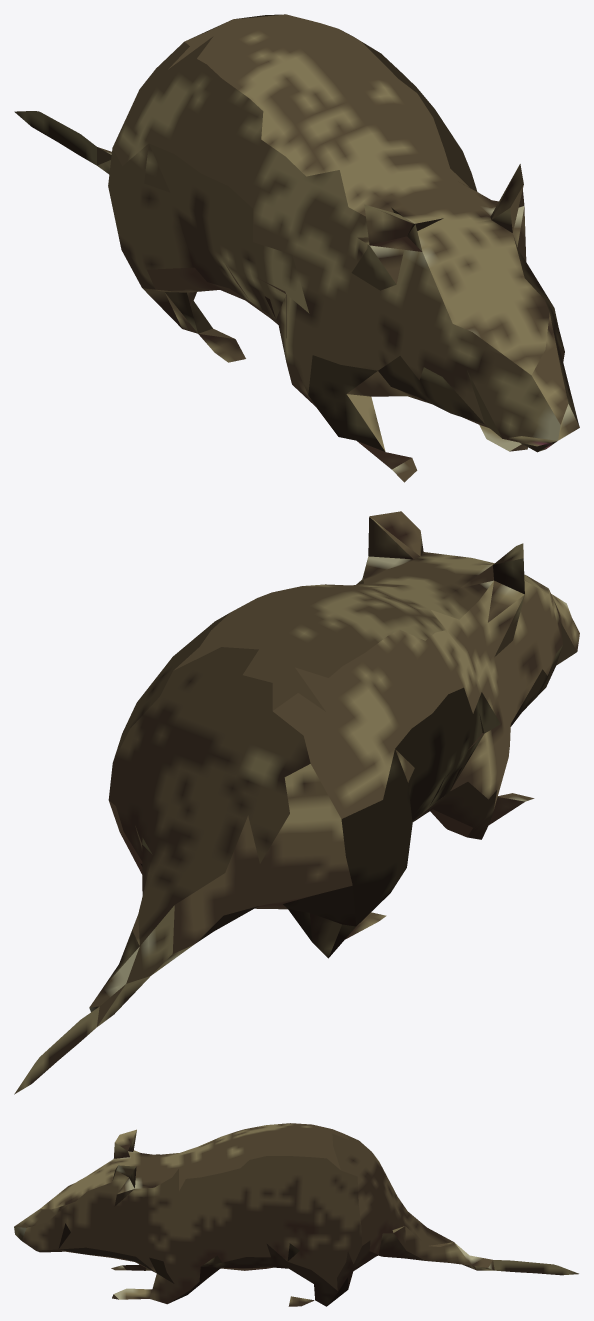
Rendered from street_rat.obj.
3 renders of one model, top to bottom at view 1: azimuth 30°, elevation 25°; view 2: azimuth 150°, elevation 25°; view 3: azimuth 270°, elevation 25°, orthographic. The views are drawn at different scales.
Visible parts, largest first — view 1: mesh; view 2: mesh; view 3: mesh.
Part boxes in pixels (x1,y1,x2,y2): mesh: [14, 14, 579, 482]; mesh: [14, 511, 579, 1094]; mesh: [14, 1123, 578, 1306].
Bounding box in the file's own units: 12.98 × 14 × 45.21.
1 material, 1 textured.
